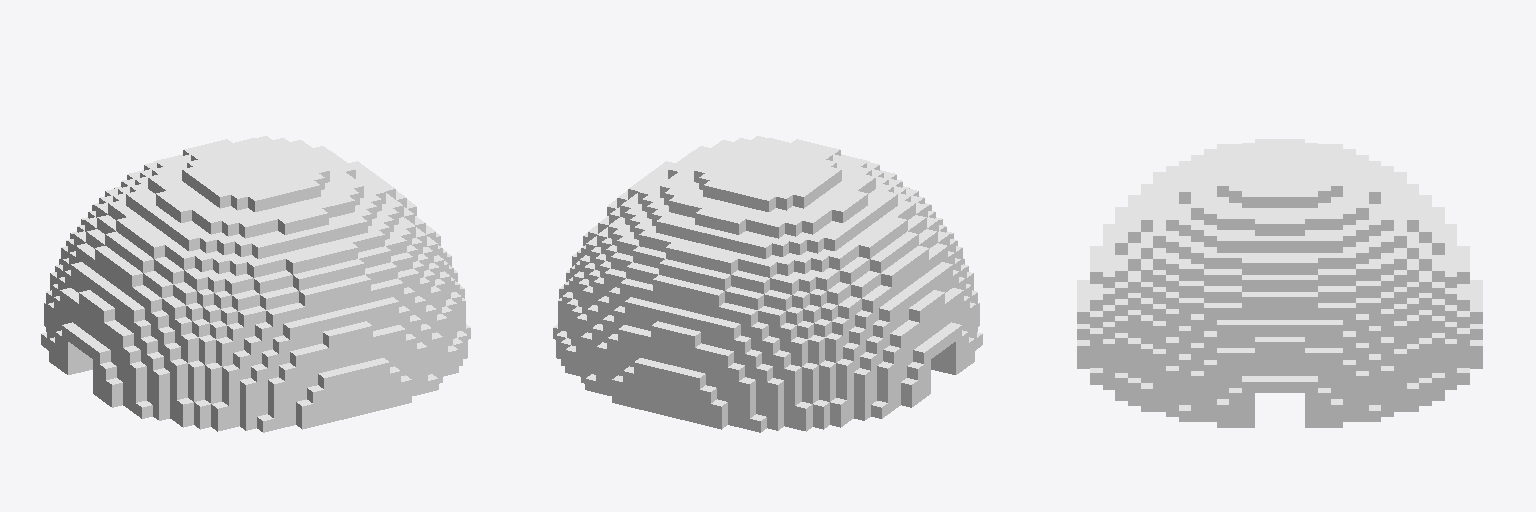
The model's file is wigwam.obj.
3 renders of one model, left to right at view 1: azimuth 30°, elevation 25°; view 2: azimuth 150°, elevation 25°; view 3: azimuth 270°, elevation 25°, orthographic.
Visible parts, largest first — view 1: object 1; view 2: object 1; view 3: object 1.
Boxes of the visible parts, x1=… form: object 1: x1=41, y1=136, x2=470, y2=432; object 1: x1=553, y1=136, x2=982, y2=432; object 1: x1=1077, y1=139, x2=1482, y2=427.
Size of the model in its own units: 3.2 by 1.5 by 3.2.